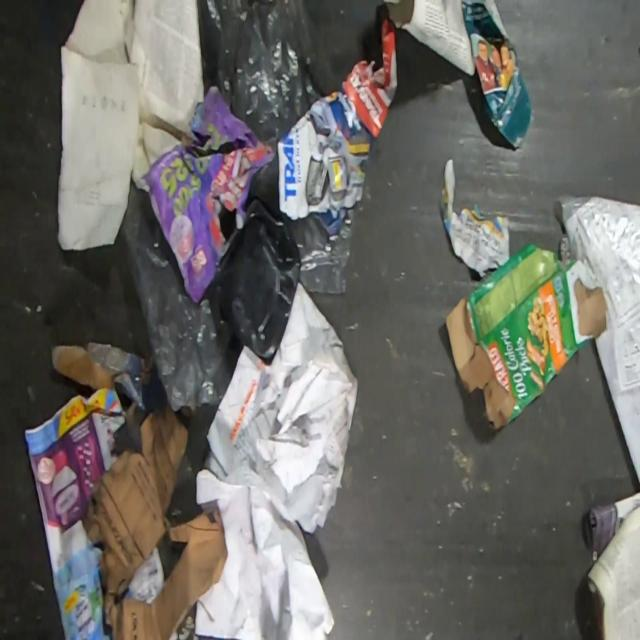cardboard: (82, 403, 228, 640), (440, 240, 610, 436), (51, 342, 168, 455)
rigid_plastic: (204, 198, 302, 359)
soft_plastic: (118, 173, 244, 412), (558, 195, 640, 486), (195, 0, 330, 144), (292, 210, 361, 292)
